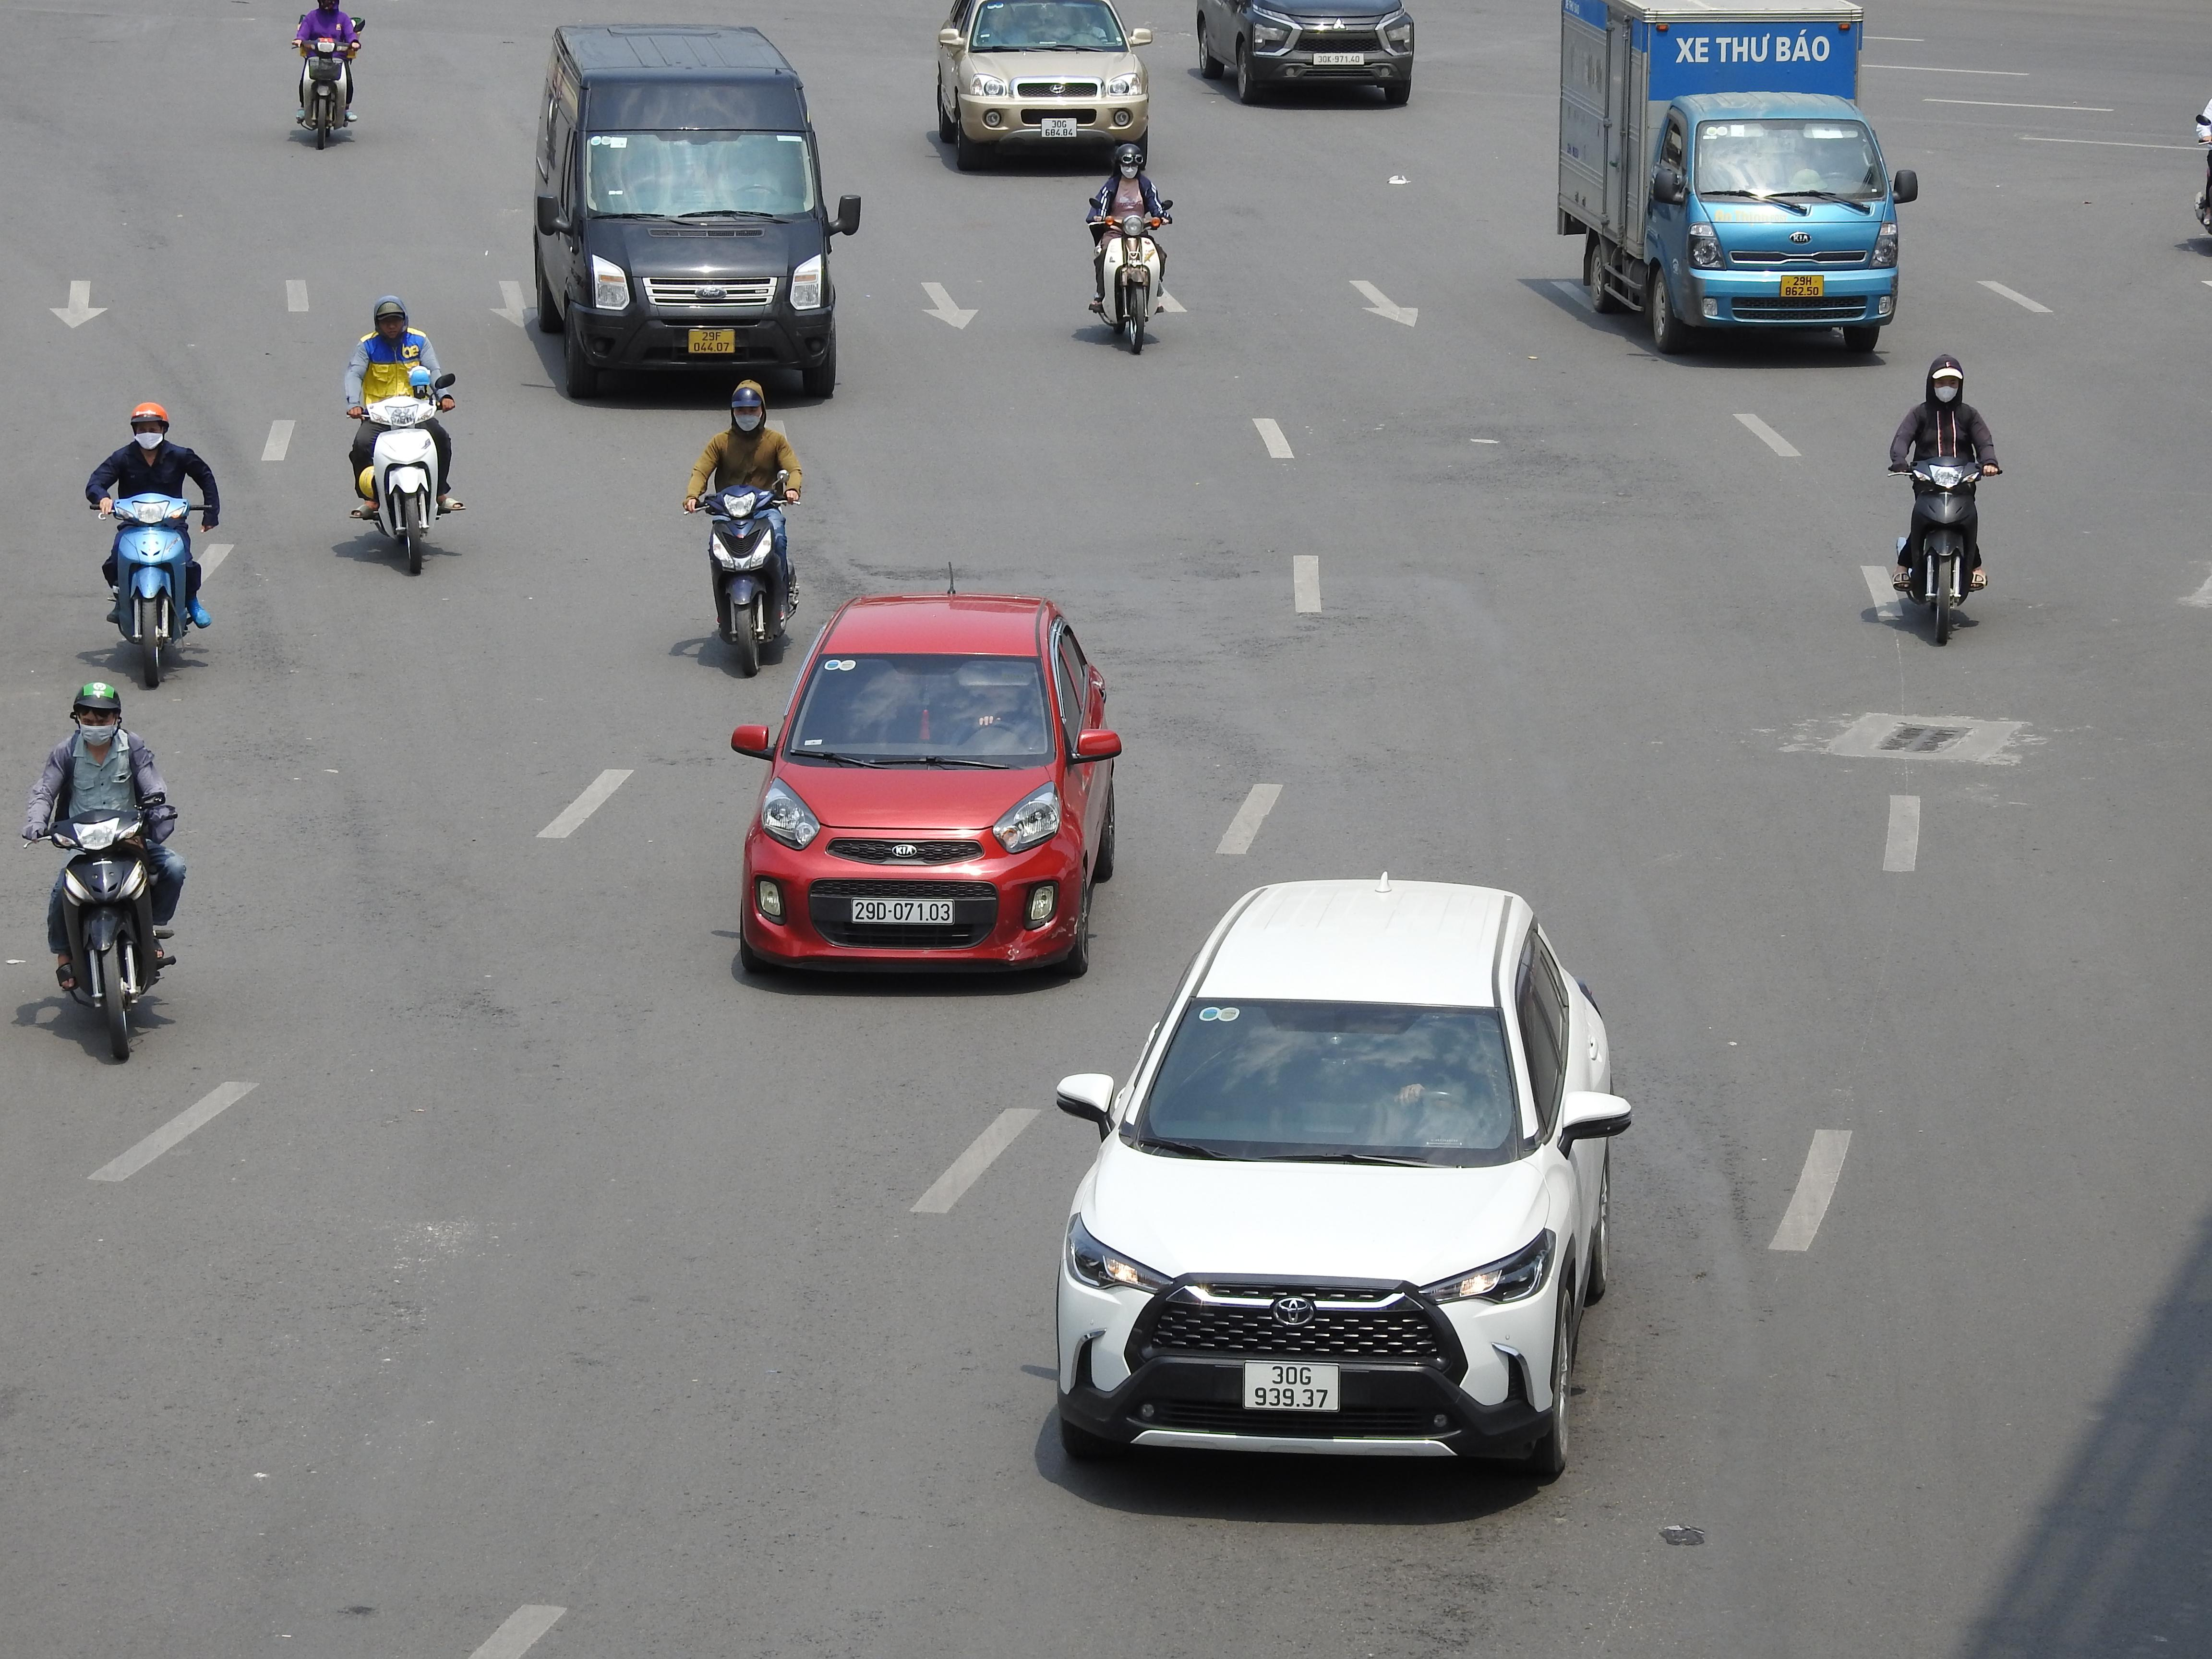BSD: (852, 897, 954, 925), (1313, 52, 1364, 64)
BSV: (1242, 1361, 1339, 1412), (690, 329, 737, 354), (1780, 275, 1824, 298), (1042, 118, 1076, 138)
bus: (526, 19, 848, 401)
car: (1050, 875, 1635, 1481), (728, 589, 1125, 985), (932, 0, 1155, 171), (1193, 0, 1416, 108)
motorbike: (26, 680, 185, 1065), (92, 399, 218, 690), (688, 382, 803, 678), (345, 295, 460, 577), (1886, 355, 1998, 647), (1085, 141, 1170, 355), (293, 0, 362, 148)
truck: (1554, 0, 1918, 359)
